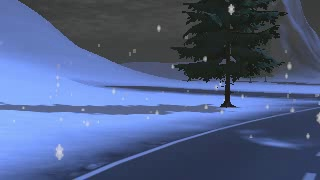Lane: (70, 106, 319, 179)
